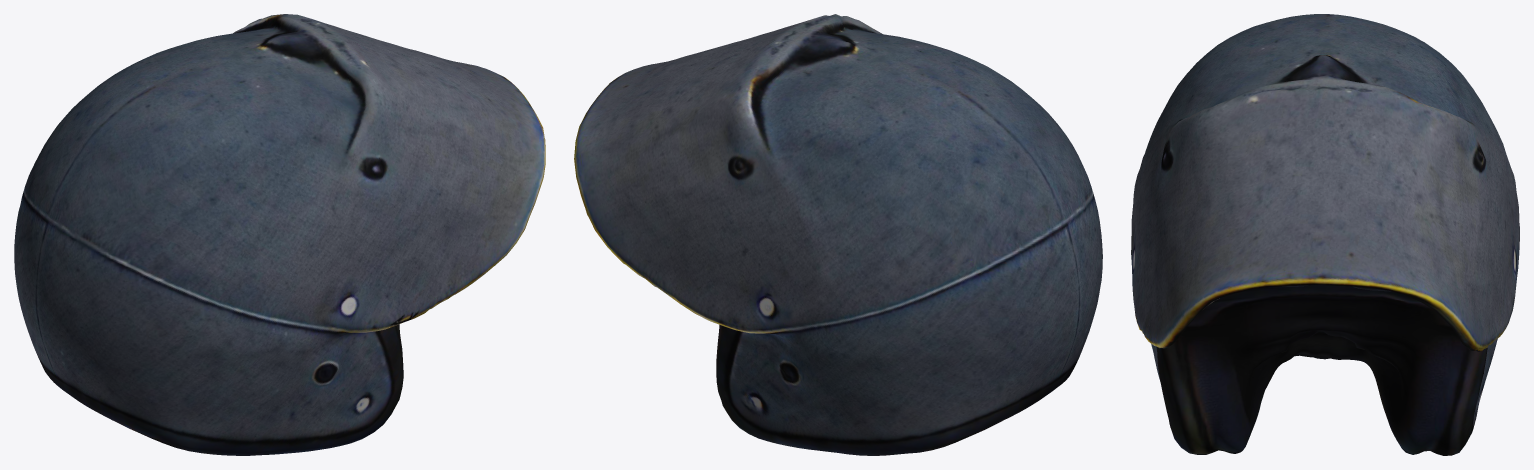
Rendered from 3b5cc2579a9a_a_open_motorcycle_h.fbx.
The picture shows the model from 3 angles, left to right: view 1: azimuth 30°, elevation 25°; view 2: azimuth 150°, elevation 25°; view 3: azimuth 270°, elevation 25°; orthographic projection. The views are drawn at different scales.
Parts seen in each view (by area): view 1: mesh; view 2: mesh; view 3: mesh.
Part boxes in pixels (x1,y1,x2,y2): mesh: (14, 14, 545, 455); mesh: (574, 14, 1102, 455); mesh: (1131, 14, 1519, 455).
Size of the model in its own units: 99.7 by 72.88 by 66.91.
